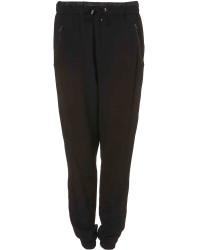C_W_pants: (51, 1, 148, 248)
